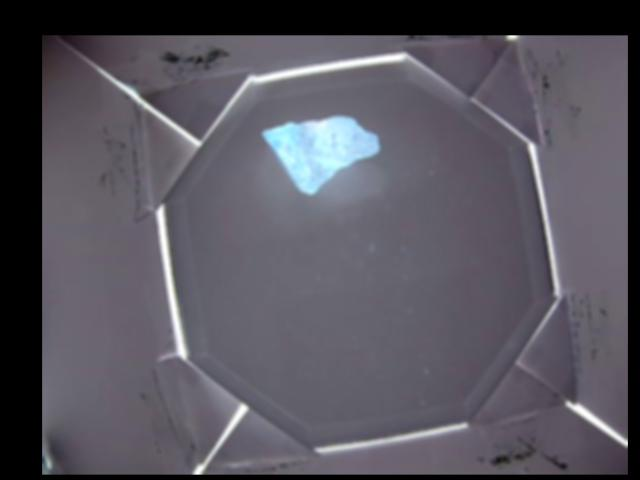Brisk: (260, 116, 378, 191)
